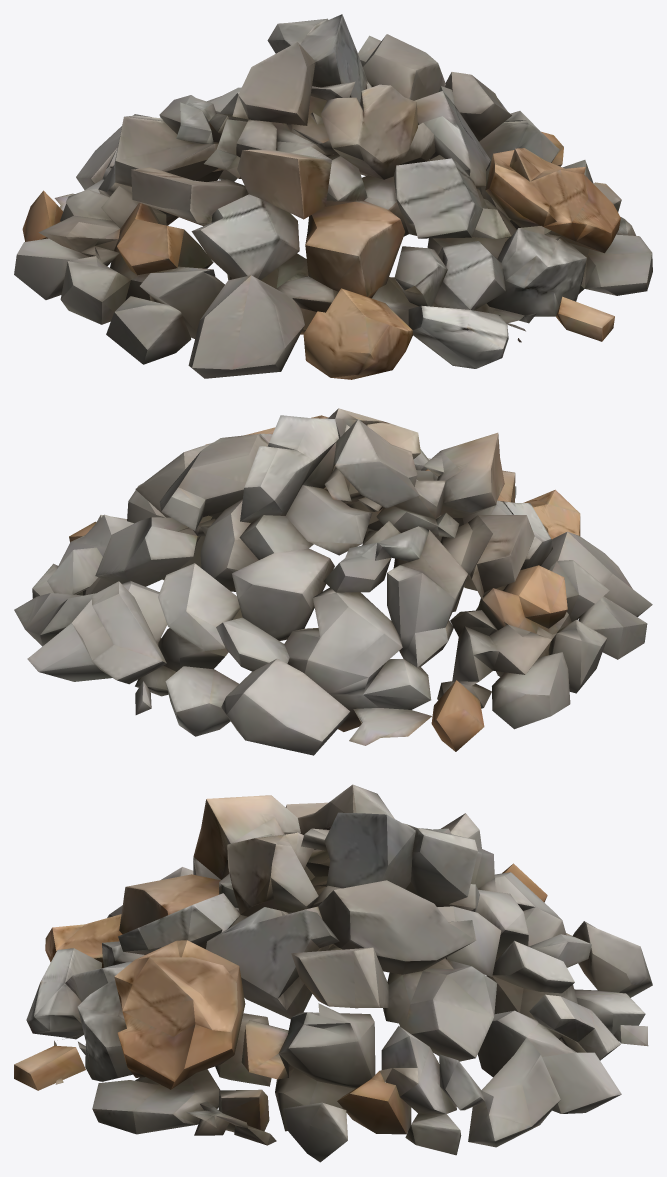
Rendered from m2RockfallPile.glb.
The picture shows the model from 3 angles, top to bottom: view 1: azimuth 30°, elevation 25°; view 2: azimuth 150°, elevation 25°; view 3: azimuth 270°, elevation 25°; orthographic projection. The views are drawn at different scales.
Visible parts, largest first — view 1: model; view 2: model; view 3: model.
Part boxes in pixels (x1,y1,x2,y2): model: (14,14,652,379); model: (14,408,652,755); model: (14,784,652,1162).
Bounding box in the file's own units: 1.86 × 0.8041 × 1.9.
Materials: 1 (1 with a texture image).
